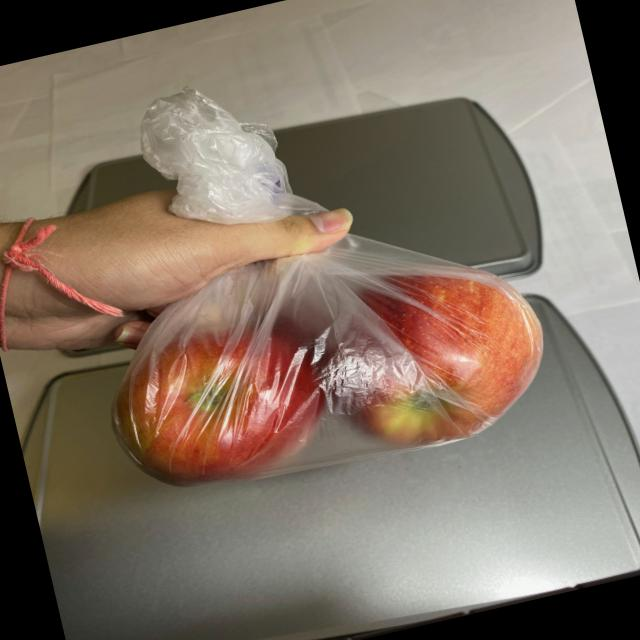apple: (87, 242, 574, 520)
